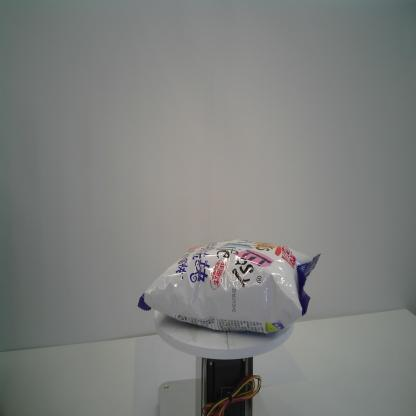Puffed Food: (136, 236, 324, 338)
